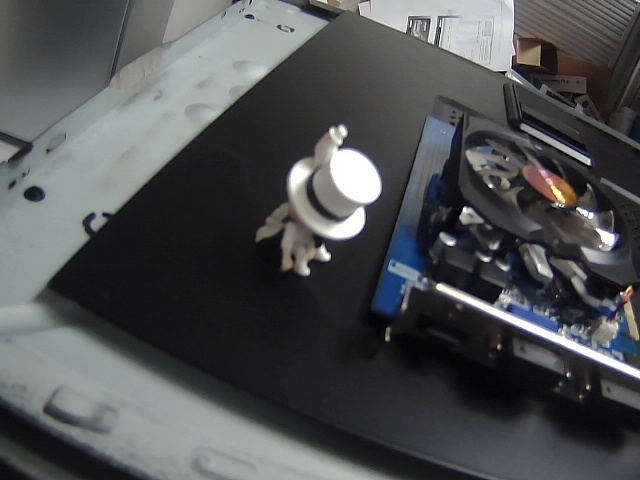lucci: (236, 119, 389, 290)
